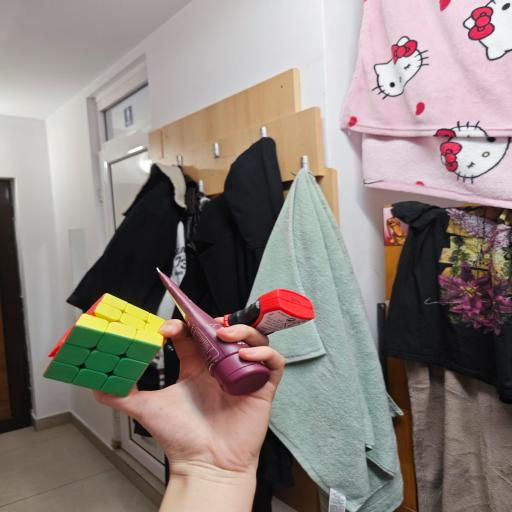Crema Maini: (154, 264, 264, 402)
Rubiks Cube: (36, 290, 162, 397)
Super Glue: (218, 288, 321, 331)
